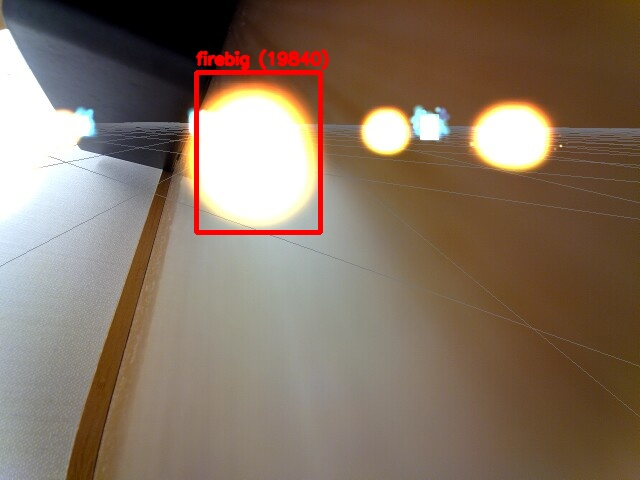firebig: (196, 72, 320, 232)
